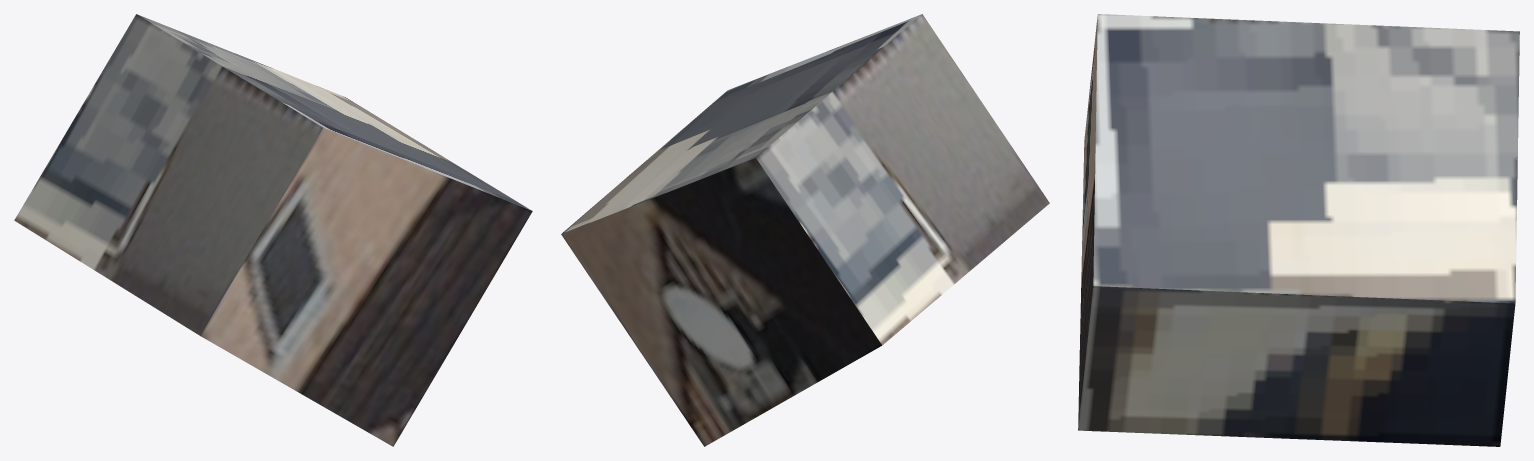
The picture shows the model from 3 angles, left to right: view 1: azimuth 30°, elevation 25°; view 2: azimuth 150°, elevation 25°; view 3: azimuth 270°, elevation 25°; orthographic projection. The views are drawn at different scales.
Parts seen in each view (by area): view 1: BAG_0599100010038677 (×2); view 2: BAG_0599100010038677 (×2); view 3: BAG_0599100010038677 (×2).
Part boxes in pixels (x1,y1,x2,y2): BAG_0599100010038677 (×2): (14,14,532,446); BAG_0599100010038677 (×2): (561,14,1049,446); BAG_0599100010038677 (×2): (1078,14,1519,446).
Size of the model in its own units: 3.9 by 3.76 by 3.76.
Materials: 2 (2 with a texture image).
